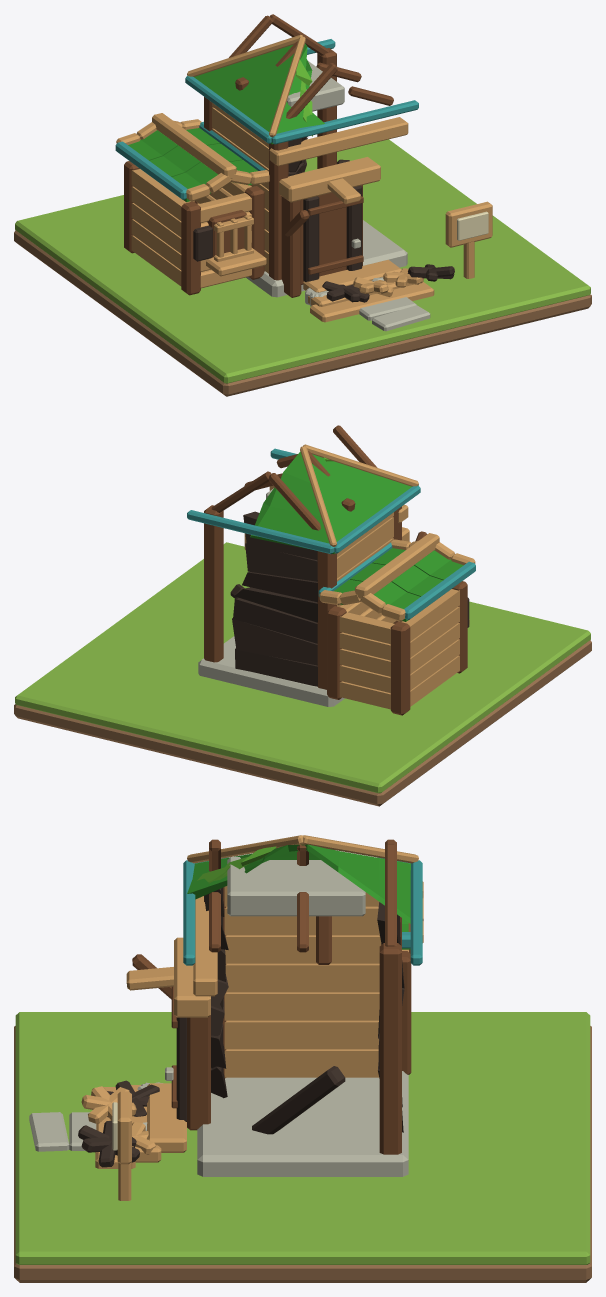
File: town_hall_l03_damaged_LOD0.glb
3 views of the same model, one above another, from view 1: azimuth 30°, elevation 25°; view 2: azimuth 150°, elevation 25°; view 3: azimuth 270°, elevation 25° (orthographic). The views are drawn at different scales.
Parts seen in each view (by area): view 1: town_hall_l03_damaged_grass_tile, town_hall_l03_damaged_earth_tile, town_hall_l03_damaged_floor_crossbeam, town_hall_l03_damaged_door_lintel, town_hall_l03_damaged_hip_roof_shingle.011, town_hall_l03_damaged_door_recess, town_hall_l03_damaged_foundation, town_hall_l03_damaged_door_jamb, town_hall_l03_damaged_corner_reinforcement, town_hall_l03_damaged_ridge_cap.004, town_hall_l03_damaged_corner_reinforcement.004, town_hall_l03_damaged_entry_step.002 (+34 smaller); view 2: town_hall_l03_damaged_grass_tile, town_hall_l03_damaged_earth_tile, town_hall_l03_damaged_corner_reinforcement.003, town_hall_l03_damaged_foundation, town_hall_l03_damaged_wall_siding.005, town_hall_l03_damaged_hip_roof_shingle.011, town_hall_l03_damaged_wall_siding.009, town_hall_l03_damaged_corner_reinforcement.005, town_hall_l03_damaged_wall_siding.021, town_hall_l03_damaged_wall_siding.001, town_hall_l03_damaged_ridge_cap.004, town_hall_l03_damaged_eave_trim.002 (+28 smaller); view 3: town_hall_l03_damaged_grass_tile, town_hall_l03_damaged_foundation, town_hall_l03_damaged_earth_tile, town_hall_l03_damaged_surviving_tower_course, town_hall_l03_damaged_corner_reinforcement.003, town_hall_l03_damaged_wall_siding.006, town_hall_l03_damaged_wall_siding.014, town_hall_l03_damaged_wall_siding.010, town_hall_l03_damaged_wall_siding.002, town_hall_l03_damaged_wall_siding.018, town_hall_l03_damaged_wall_siding.022, town_hall_l03_damaged_door_recess (+21 smaller).
Boxes of the visible parts, x1,y1,x2,y2 form: town_hall_l03_damaged_grass_tile: (15,139,590,383); town_hall_l03_damaged_earth_tile: (14,230,591,396); town_hall_l03_damaged_floor_crossbeam: (269,117,408,166); town_hall_l03_damaged_door_lintel: (279,157,380,202); town_hall_l03_damaged_hip_roof_shingle.011: (194,66,277,143); town_hall_l03_damaged_door_recess: (301,185,362,284); town_hall_l03_damaged_foundation: (246,220,407,297); town_hall_l03_damaged_door_jamb: (281,196,301,297); town_hall_l03_damaged_corner_reinforcement: (269,141,288,280); town_hall_l03_damaged_ridge_cap.004: (152,113,236,178); town_hall_l03_damaged_corner_reinforcement.004: (181,201,200,295); town_hall_l03_damaged_entry_step.002: (310,282,434,322); town_hall_l03_damaged_grass_tile: (15,542,590,793); town_hall_l03_damaged_earth_tile: (14,640,591,806); town_hall_l03_damaged_corner_reinforcement.003: (204,505,223,662); town_hall_l03_damaged_foundation: (198,636,344,706); town_hall_l03_damaged_wall_siding.005: (232,618,317,665); town_hall_l03_damaged_hip_roof_shingle.011: (328,476,411,553); town_hall_l03_damaged_wall_siding.009: (233,598,317,643); town_hall_l03_damaged_corner_reinforcement.005: (390,621,410,715); town_hall_l03_damaged_wall_siding.021: (245,543,317,581); town_hall_l03_damaged_wall_siding.001: (235,648,317,686); town_hall_l03_damaged_ridge_cap.004: (355,533,439,598); town_hall_l03_damaged_eave_trim.002: (187,510,334,554); town_hall_l03_damaged_grass_tile: (15,1012,590,1264); town_hall_l03_damaged_foundation: (197,1071,408,1176); town_hall_l03_damaged_earth_tile: (14,1026,591,1282); town_hall_l03_damaged_surviving_tower_course: (227,857,365,916); town_hall_l03_damaged_corner_reinforcement.003: (379,943,401,1154); town_hall_l03_damaged_wall_siding.006: (224,1020,378,1049); town_hall_l03_damaged_wall_siding.014: (225,963,379,992); town_hall_l03_damaged_wall_siding.010: (224,992,379,1020); town_hall_l03_damaged_wall_siding.002: (224,1049,379,1077); town_hall_l03_damaged_wall_siding.018: (225,935,381,963); town_hall_l03_damaged_wall_siding.022: (224,906,379,935); town_hall_l03_damaged_door_recess: (187,1015,210,1130).
Bounding box in the file's own units: 3.6 × 2.24 × 3.6.
